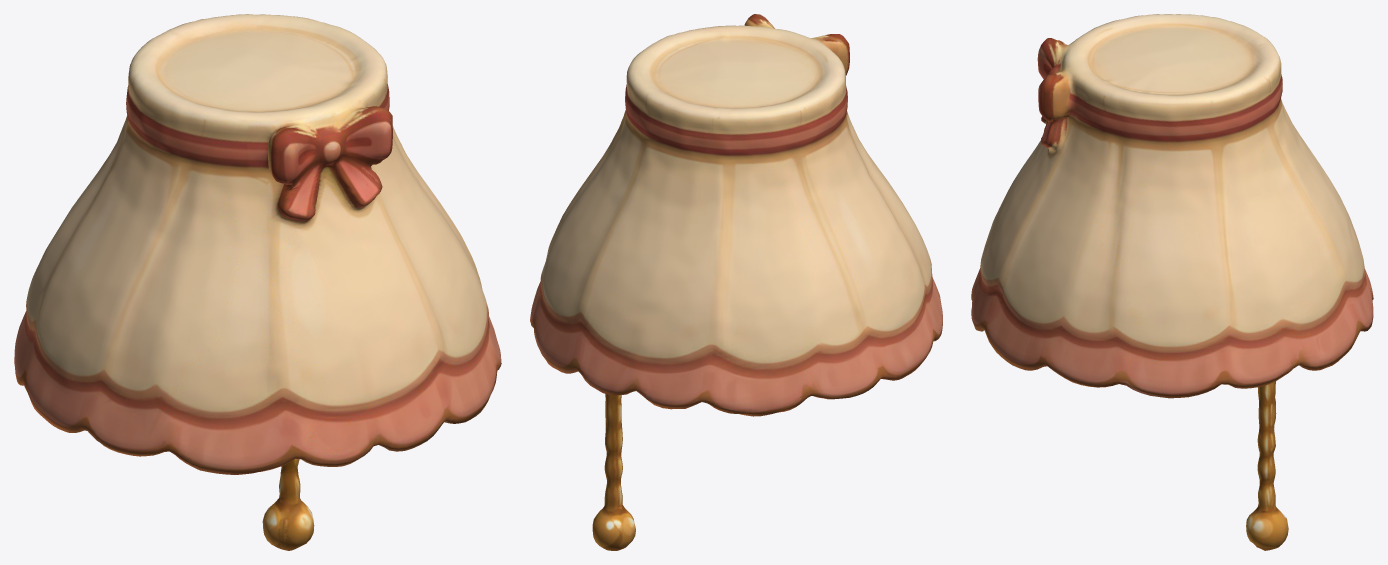
File: Red_ribbon_lamp.glb
3 views of the same model, side by side, from view 1: azimuth 30°, elevation 25°; view 2: azimuth 150°, elevation 25°; view 3: azimuth 270°, elevation 25° (orthographic). The views are drawn at different scales.
Parts seen in each view (by area): view 1: RETOPO; view 2: RETOPO; view 3: RETOPO.
Boxes of the visible parts, box(x1,y1,x2,y2) form: RETOPO: box(14, 14, 501, 550); RETOPO: box(530, 14, 942, 550); RETOPO: box(971, 14, 1373, 550).
Bounding box in the file's own units: 0.5081 × 0.6302 × 0.5035.
1 material, 1 textured.
